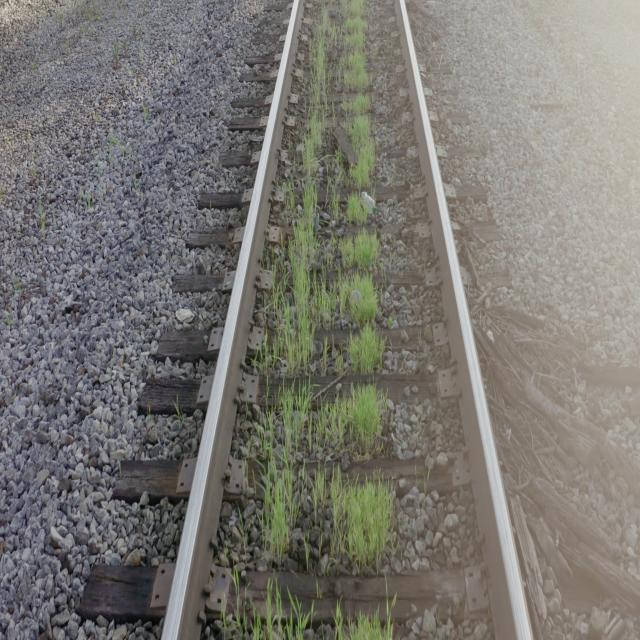Plant: (271, 0, 385, 376), (264, 382, 386, 560), (310, 464, 394, 573), (254, 604, 311, 638), (322, 616, 391, 638), (349, 609, 392, 640), (330, 184, 340, 220)
